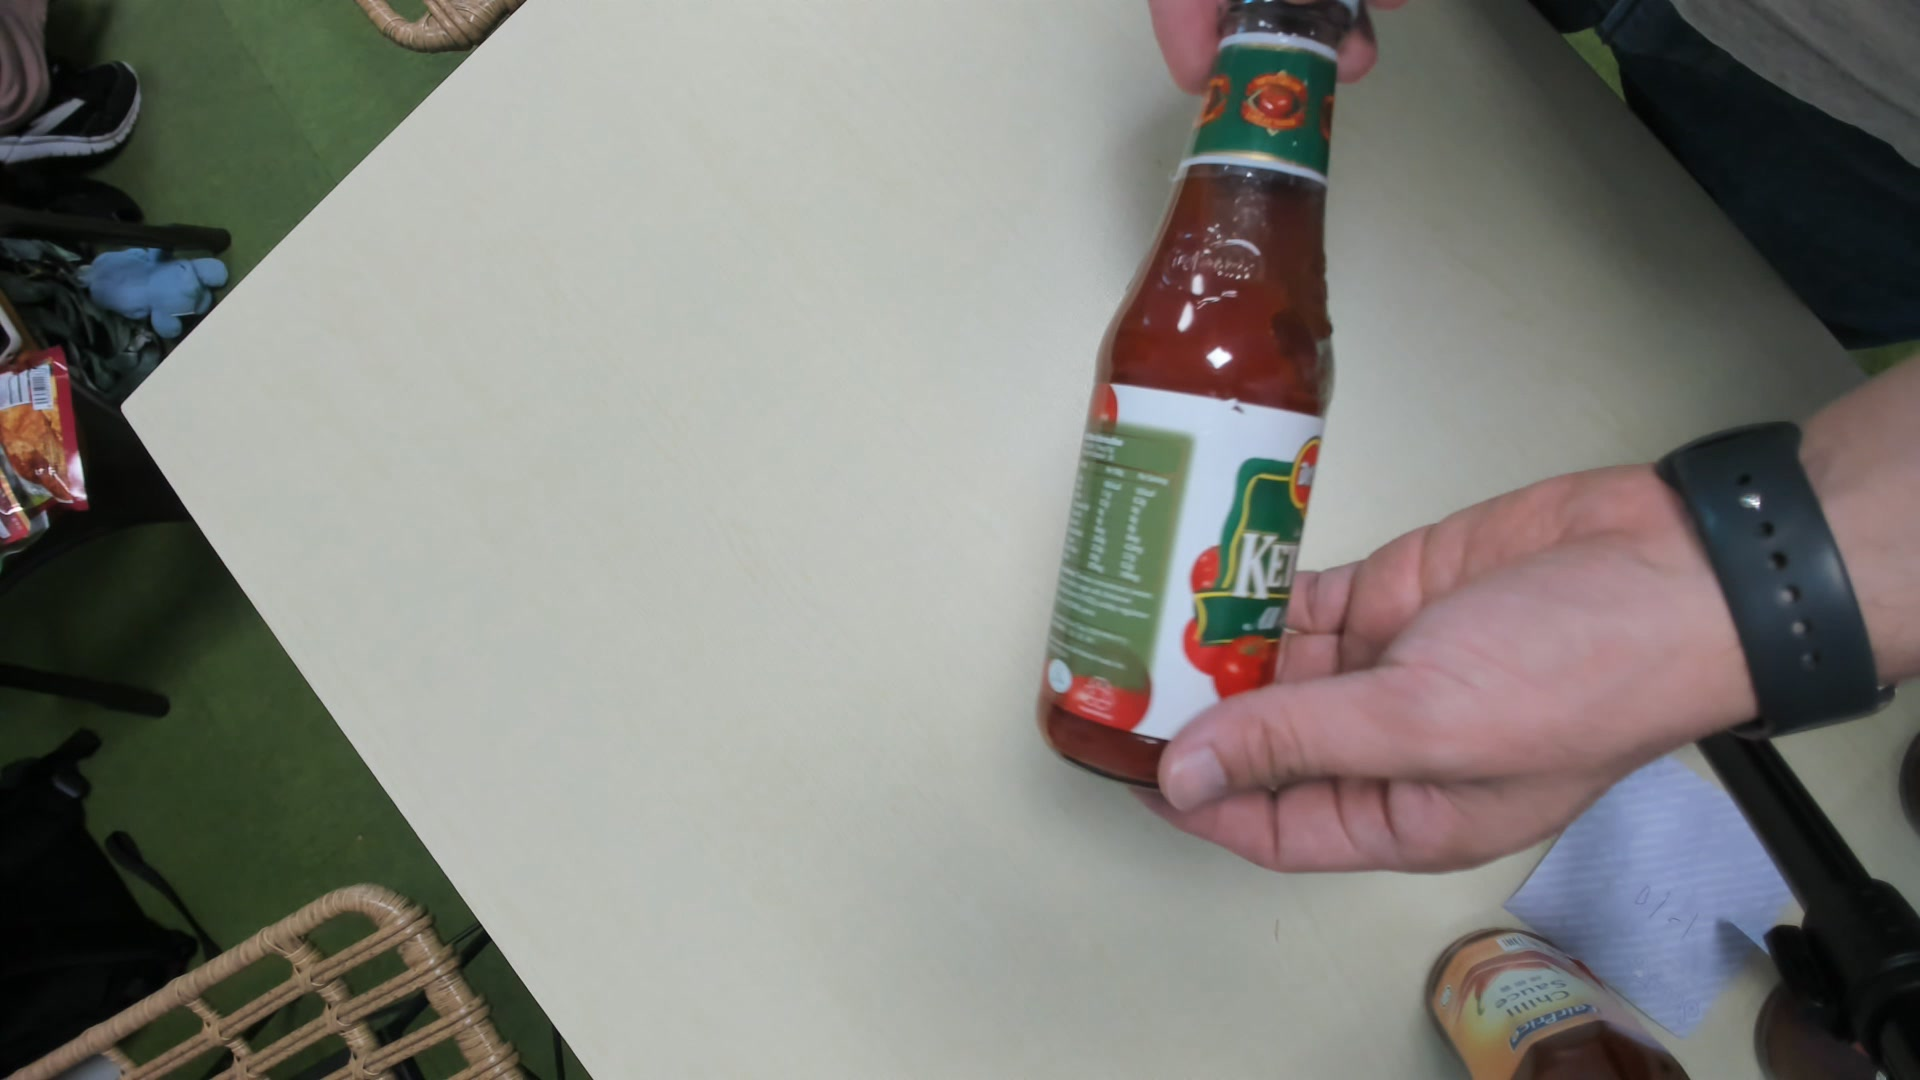KetchupChillSauce_300-399g_Halal_NonHealthy: (1038, 1, 1360, 789)
